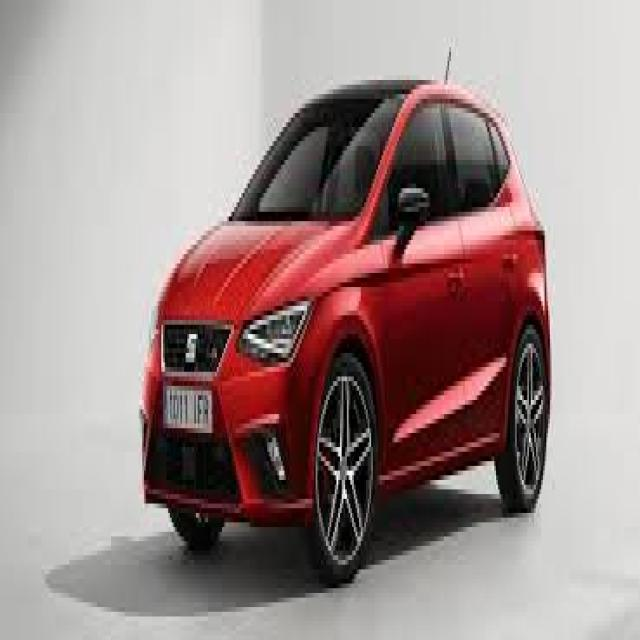Cars: (133, 63, 569, 580)
